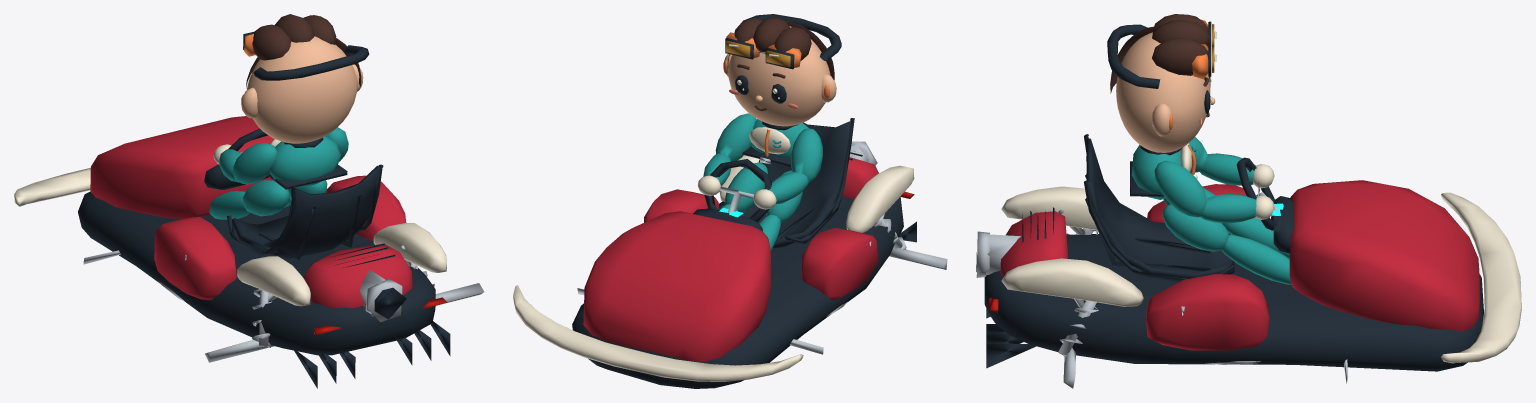
File: chibi-dodo-low-v1.glb
3 views of the same model, side by side, from view 1: azimuth 30°, elevation 25°; view 2: azimuth 150°, elevation 25°; view 3: azimuth 270°, elevation 25° (orthographic). The views are drawn at different scales.
Visible parts, largest first — view 1: SeatRolledLip1, SculptedSideIntake1, Tiny button nose, SweptFrontApron, Team double chevron.001, SuspensionCoil1, Swept hair lock 2, Upper sleeve; view 2: SculptedSideIntake1, SeatRolledLip1, SweptFrontApron, Tiny button nose, Team double chevron.001, Swept hair lock 2, SuspensionCoil1, Upper sleeve, Upper sleeve.001, Central orange zipper, 1 amber glass, Mitten (+1 smaller); view 3: SeatRolledLip1, SculptedSideIntake1, SweptFrontApron, Tiny button nose, Team double chevron.001, Upper sleeve.001, Swept hair lock 2, SuspensionCoil1, Upper sleeve, Central orange zipper.
Part boxes in pixels (left/top/right/bottom): SeatRolledLip1: left=78, top=32, right=450, bottom=388; SculptedSideIntake1: left=90, top=116, right=412, bottom=308; Tiny button nose: left=241, top=36, right=363, bottom=143; SweptFrontApron: left=14, top=139, right=447, bottom=306; Team double chevron.001: left=209, top=136, right=341, bottom=219; SuspensionCoil1: left=83, top=152, right=484, bottom=362; Swept hair lock 2: left=246, top=14, right=361, bottom=88; Upper sleeve: left=219, top=142, right=277, bottom=184; SculptedSideIntake1: left=583, top=157, right=878, bottom=362; SeatRolledLip1: left=572, top=14, right=916, bottom=388; SweptFrontApron: left=513, top=44, right=914, bottom=381; Tiny button nose: left=723, top=26, right=836, bottom=126; Team double chevron.001: left=719, top=119, right=808, bottom=251; Swept hair lock 2: left=727, top=17, right=834, bottom=110; SuspensionCoil1: left=577, top=50, right=947, bottom=354; Upper sleeve: left=769, top=128, right=822, bottom=204; Upper sleeve.001: left=703, top=113, right=756, bottom=185; Central orange zipper: left=723, top=32, right=829, bottom=156; 1 amber glass: left=726, top=40, right=790, bottom=67; Mitten: left=753, top=189, right=776, bottom=209; SeatRolledLip1: left=976, top=21, right=1483, bottom=371; SculptedSideIntake1: left=1000, top=180, right=1479, bottom=350; SweptFrontApron: left=1001, top=31, right=1521, bottom=363; Tiny button nose: left=1116, top=32, right=1215, bottom=152; Team double chevron.001: left=1131, top=144, right=1291, bottom=284; Upper sleeve.001: left=1154, top=160, right=1256, bottom=223; Swept hair lock 2: left=1110, top=14, right=1209, bottom=117; SuspensionCoil1: left=976, top=46, right=1348, bottom=388; Upper sleeve: left=1189, top=137, right=1255, bottom=185; Central orange zipper: left=1169, top=19, right=1208, bottom=174.
Size of the model in its own units: 1.63 by 1.47 by 2.31.
